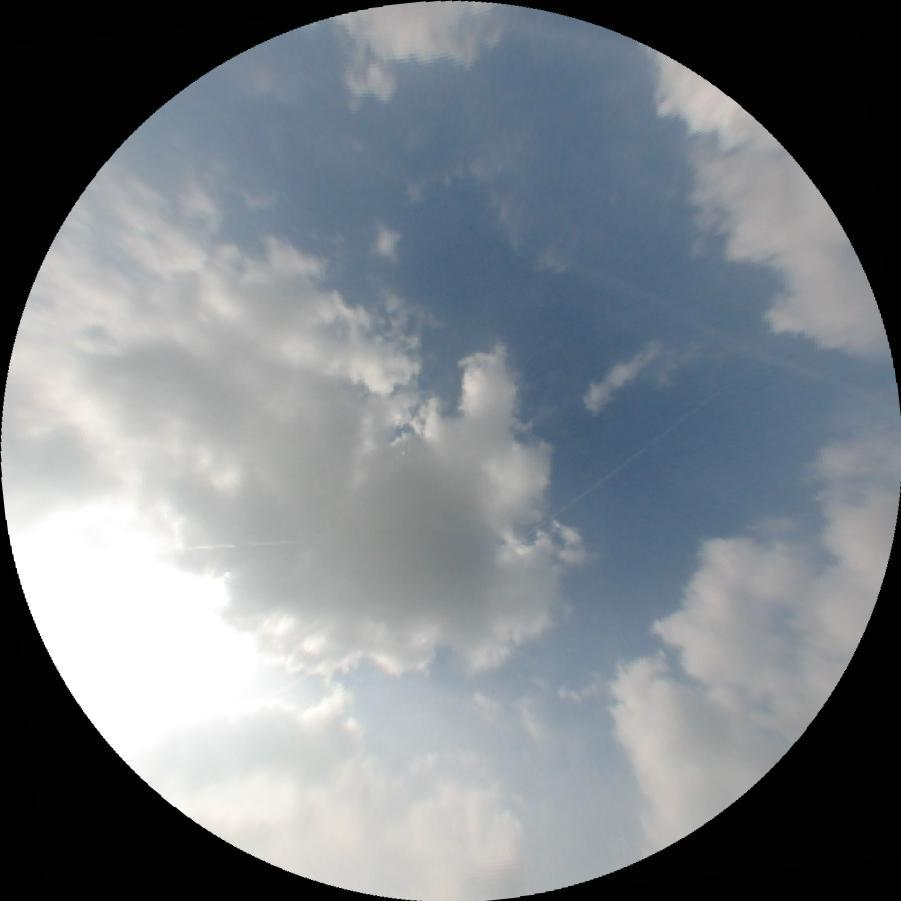contrail young: (522, 360, 756, 539)
parasite: (180, 538, 301, 551)
sun: (0, 442, 281, 781)
